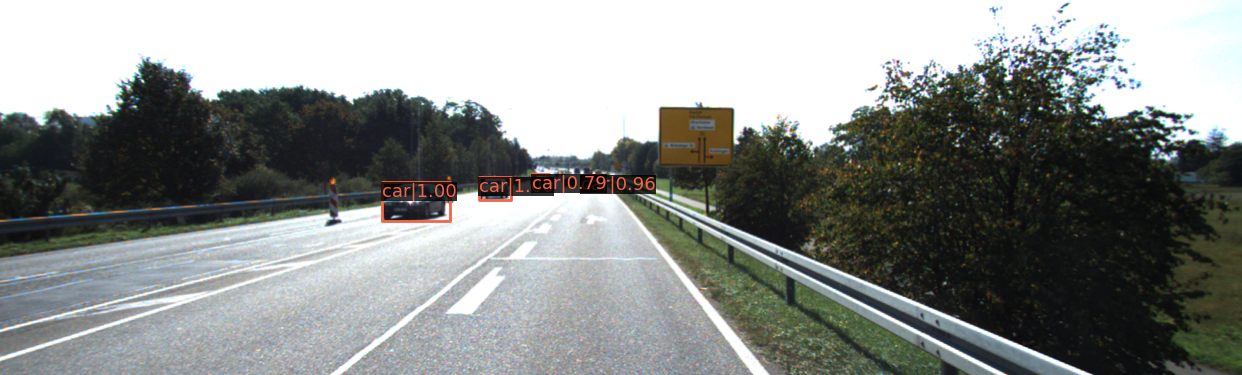car: (382, 183, 448, 223), (478, 178, 509, 200), (582, 179, 599, 192)
